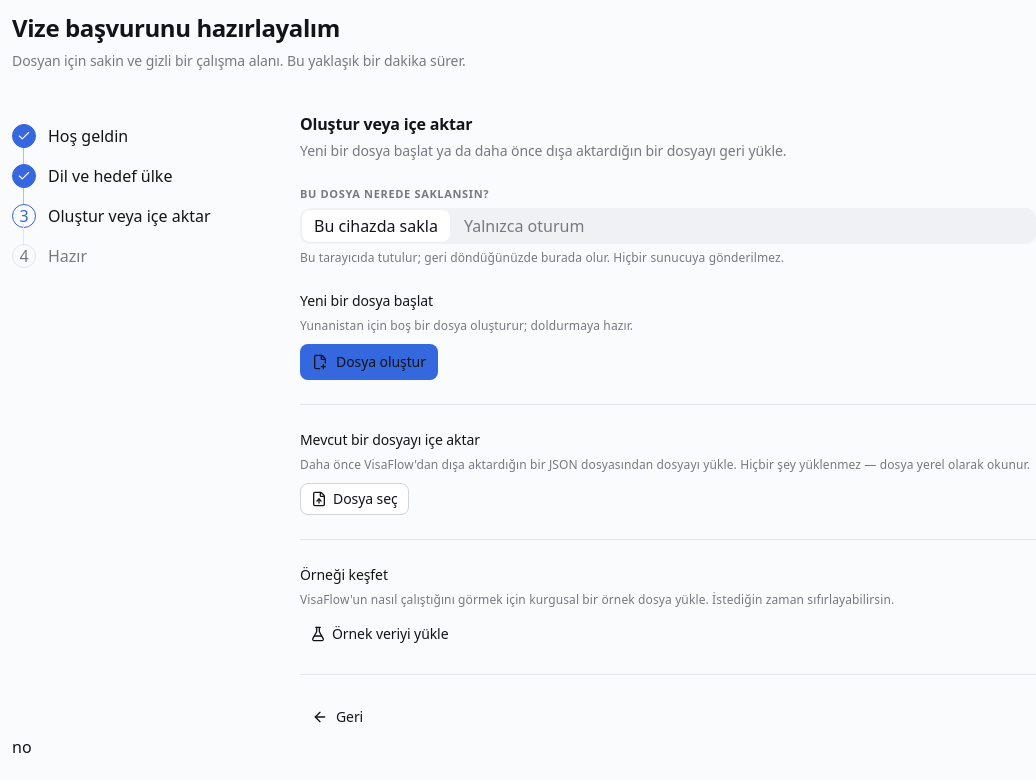
Test: Welcome — create a dossier › creates an in-memory dossier and lands on Ready
This screenshot has width=1036, height=780.
Expected: the text with test id "has-applicant" reads "no", [12,736,32,758]
Click the button "Dosya oluştur" at {"x": 369, "y": 362}, box [300,344,438,380]
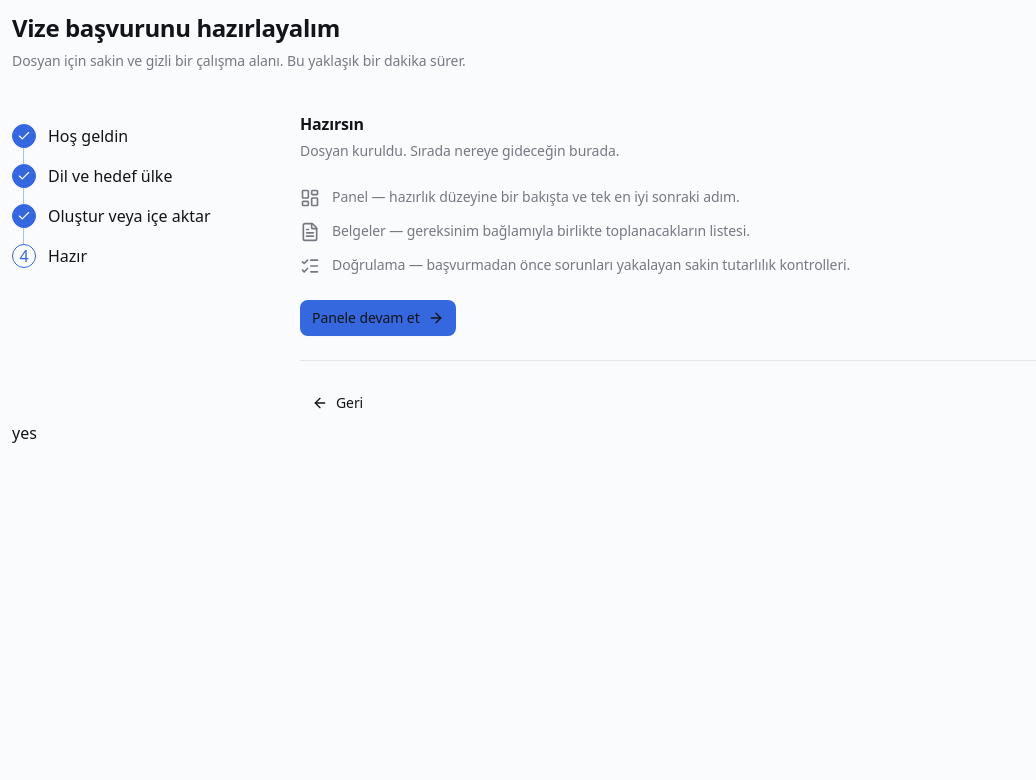
Now the text with test id "has-applicant" reads "yes", box [12,422,37,444]
Now the heading "Hazırsın" is shown, box [300,113,364,135]
